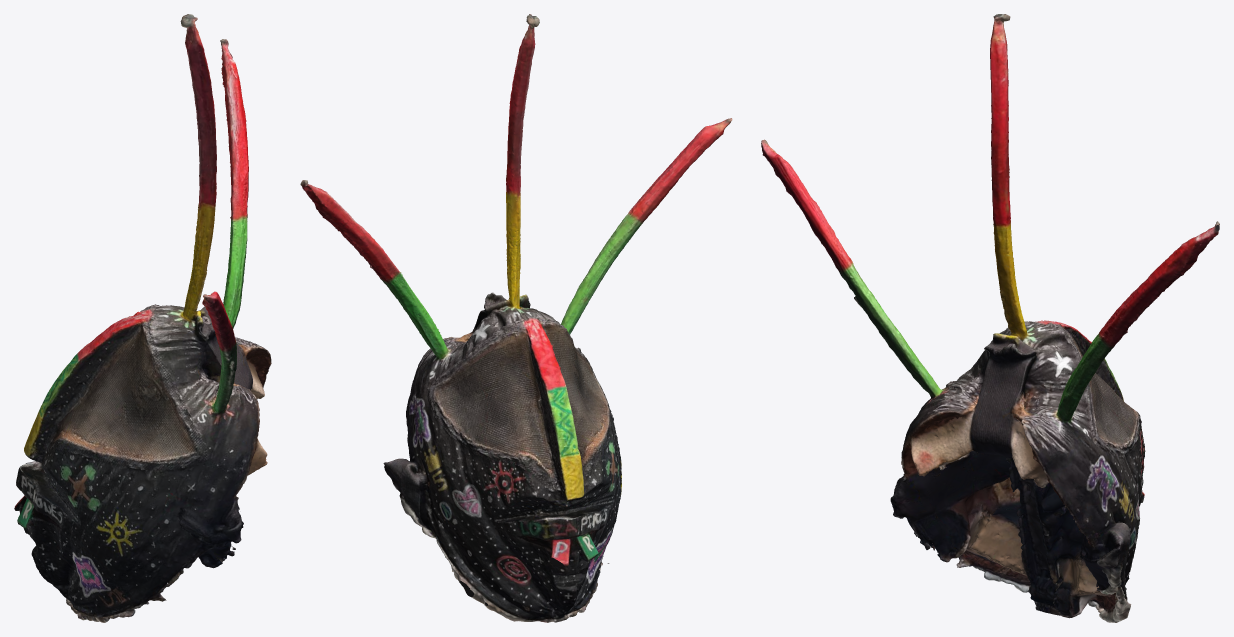
Rendered from vejigante-mask-4.glb.
The picture shows the model from 3 angles, left to right: view 1: azimuth 30°, elevation 25°; view 2: azimuth 150°, elevation 25°; view 3: azimuth 270°, elevation 25°; orthographic projection. The views are drawn at different scales.
Parts seen in each view (by area): view 1: 3DModel; view 2: 3DModel; view 3: 3DModel.
Boxes of the visible parts, x1,y1,x2,y2 form: 3DModel: [14, 14, 271, 622]; 3DModel: [300, 14, 732, 622]; 3DModel: [761, 14, 1219, 622].
Bounding box in the file's own units: 9.81 × 21.64 × 14.42.
1 material, 1 textured.
